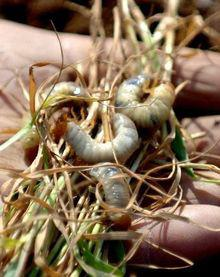grub: (81, 162, 141, 229)
